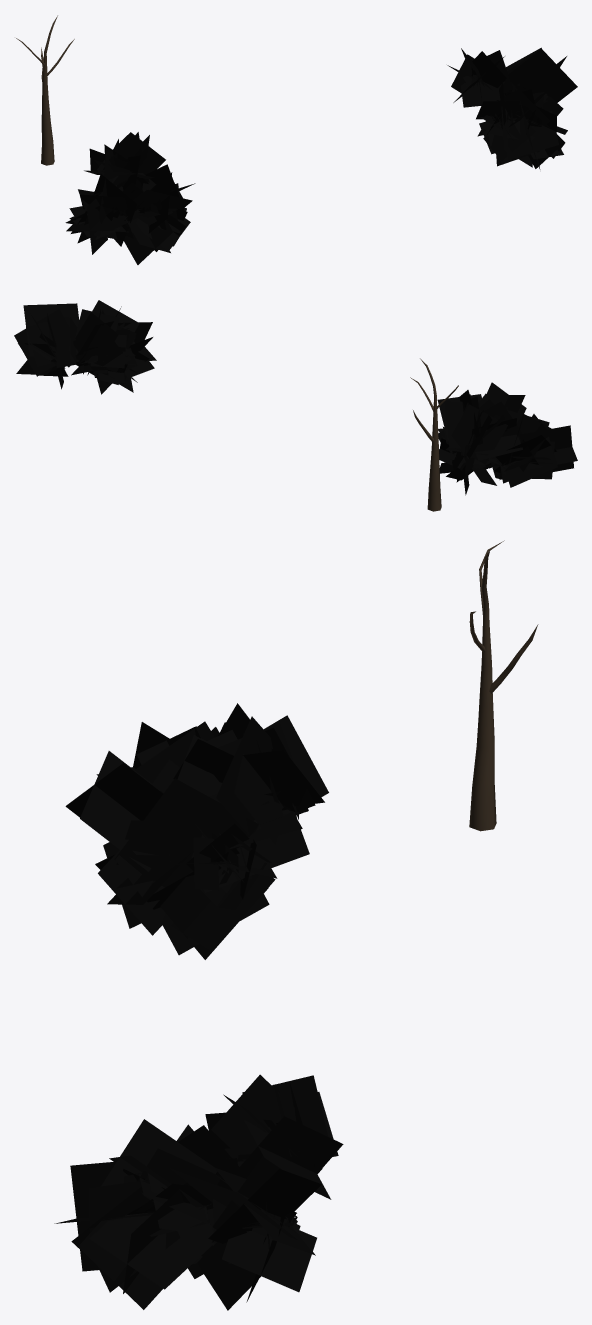
Rendered from no_leaves_tree_five.glb.
3 renders of one model, top to bottom at view 1: azimuth 30°, elevation 25°; view 2: azimuth 150°, elevation 25°; view 3: azimuth 270°, elevation 25°, orthographic. The views are drawn at different scales.
Visible parts, largest first — view 1: leaves.006_15.004, leaves.007_18.004, trunk.006_16.004; view 2: leaves.006_15.004, leaves.007_18.004, trunk.006_16.004; view 3: leaves.007_18.004, leaves.006_15.004, trunk.006_16.004.
Part boxes in pixels (x1,y1,x2,y2): leaves.006_15.004: (65, 132, 195, 264); leaves.007_18.004: (447, 47, 577, 169); trunk.006_16.004: (16, 15, 74, 165); leaves.006_15.004: (437, 382, 577, 495); leaves.007_18.004: (14, 300, 156, 394); trunk.006_16.004: (410, 358, 458, 511); leaves.007_18.004: (54, 1074, 343, 1310); leaves.006_15.004: (65, 703, 328, 959); trunk.006_16.004: (469, 540, 538, 831).
Size of the model in its own units: 224 by 79.26 by 90.66.
2 materials, 2 textured.
